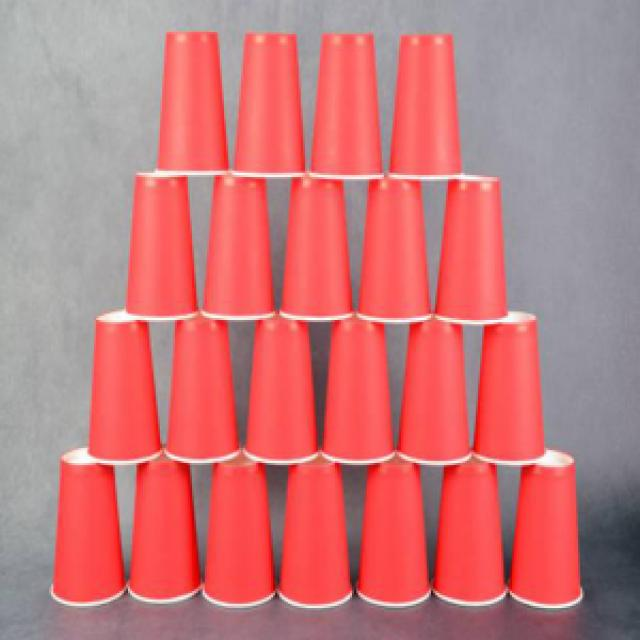plastic cup: (506, 448, 586, 610), (49, 446, 128, 606), (276, 459, 358, 612), (241, 316, 324, 467), (433, 170, 512, 328), (384, 30, 465, 183), (121, 171, 202, 324), (310, 28, 388, 183), (86, 312, 164, 467), (200, 457, 278, 612), (356, 175, 435, 328), (152, 28, 232, 179), (162, 316, 243, 465), (431, 459, 512, 608), (354, 461, 435, 610), (472, 310, 548, 468), (200, 171, 278, 324), (394, 318, 474, 467), (278, 175, 356, 326), (124, 456, 202, 606), (233, 30, 307, 179), (322, 318, 397, 465)
